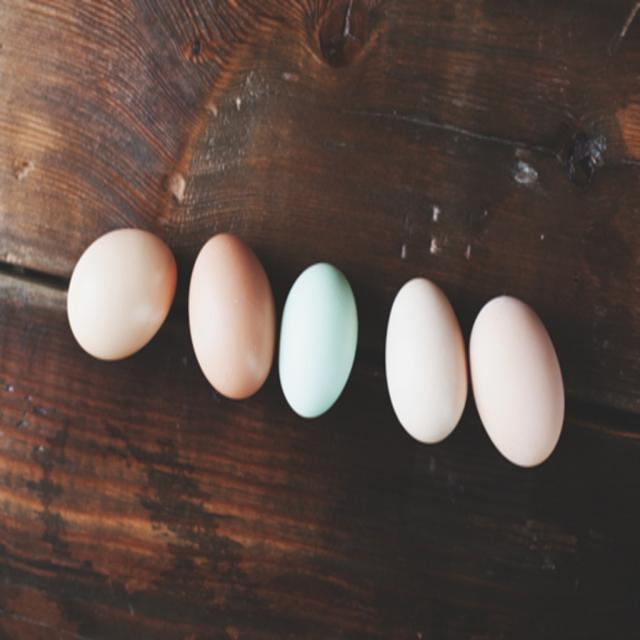Egg: (468, 294, 570, 467), (65, 221, 178, 363), (186, 230, 276, 398), (386, 275, 468, 444), (278, 260, 361, 417)
